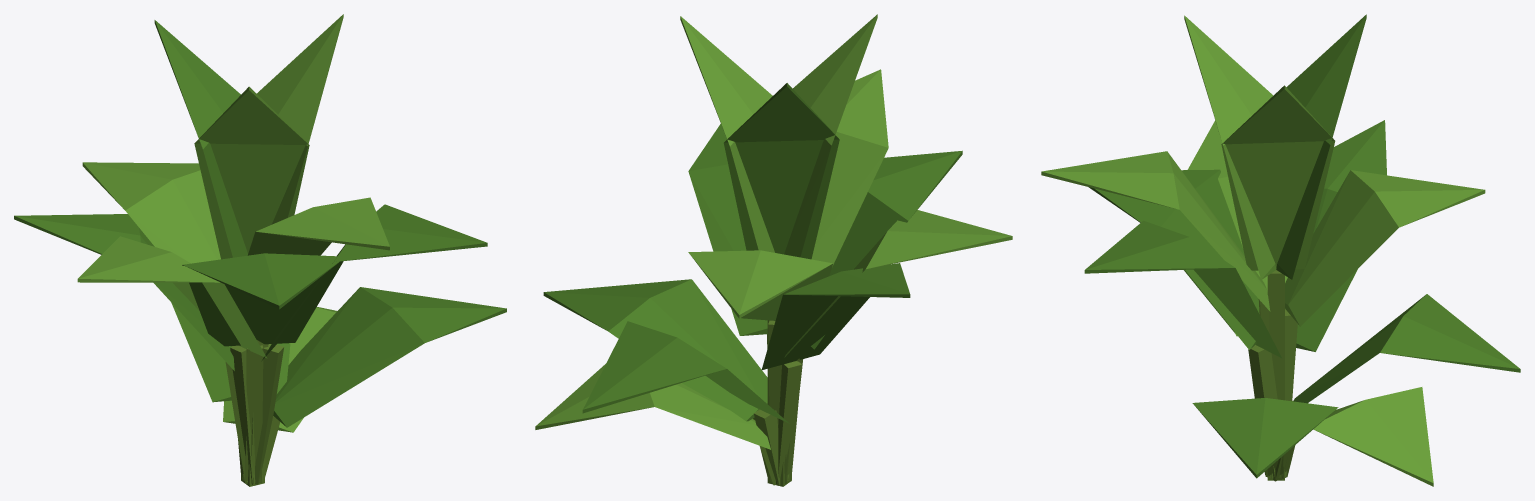
Rendered from Lodge_Plant.fbx.
3 views of the same model, side by side, from view 1: azimuth 30°, elevation 25°; view 2: azimuth 150°, elevation 25°; view 3: azimuth 270°, elevation 25° (orthographic).
Visible parts, largest first — view 1: FnLeafDark, FnLeaf, FnStem; view 2: FnLeafDark, FnLeaf, FnStem; view 3: FnLeaf, FnLeafDark, FnStem.
Part boxes in pixels (box(x1,y1,x2,y2)): FnLeafDark: box(14, 20, 506, 427); FnLeaf: box(77, 14, 389, 432); FnStem: box(225, 340, 283, 486); FnLeafDark: box(543, 83, 962, 423); FnLeaf: box(535, 14, 1012, 449); FnStem: box(753, 320, 803, 486); FnLeaf: box(1041, 15, 1485, 486); FnLeafDark: box(1084, 14, 1520, 478); FnStem: box(1248, 270, 1297, 481).
Bounding box in the file's own units: 3.8 × 3.59 × 3.57.
